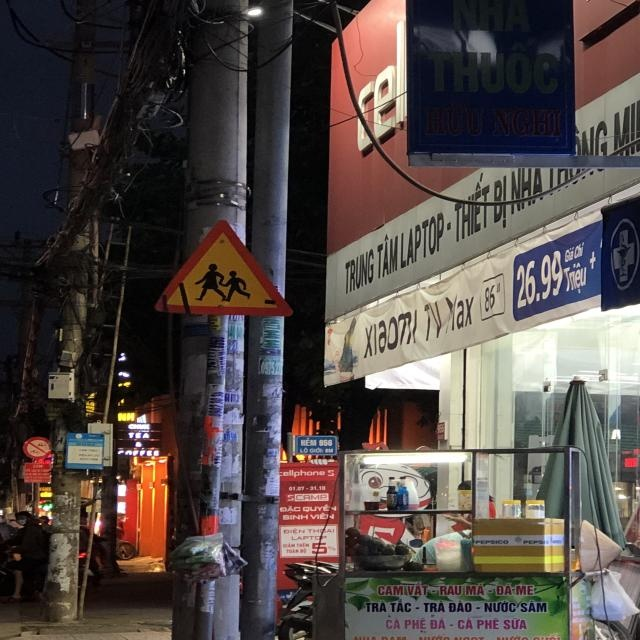bien_nguy_hiem: (152, 219, 292, 317)
